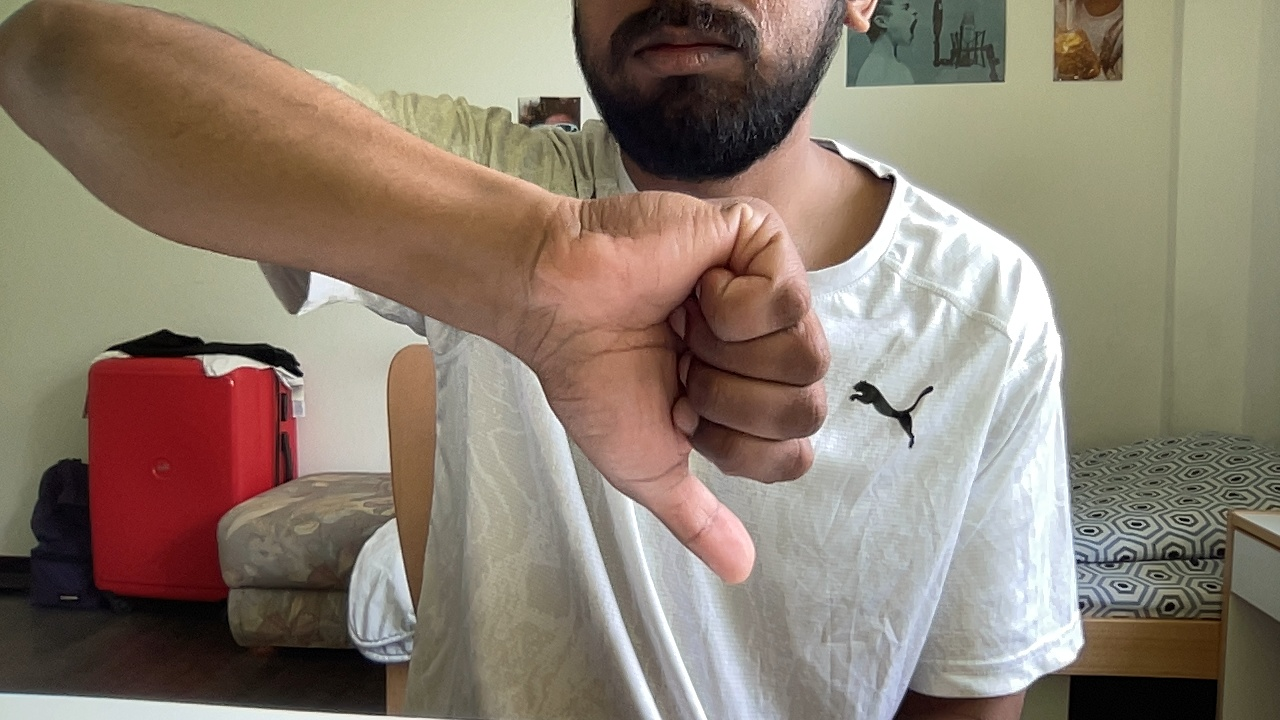ThumbsDown: (546, 190, 836, 588)
